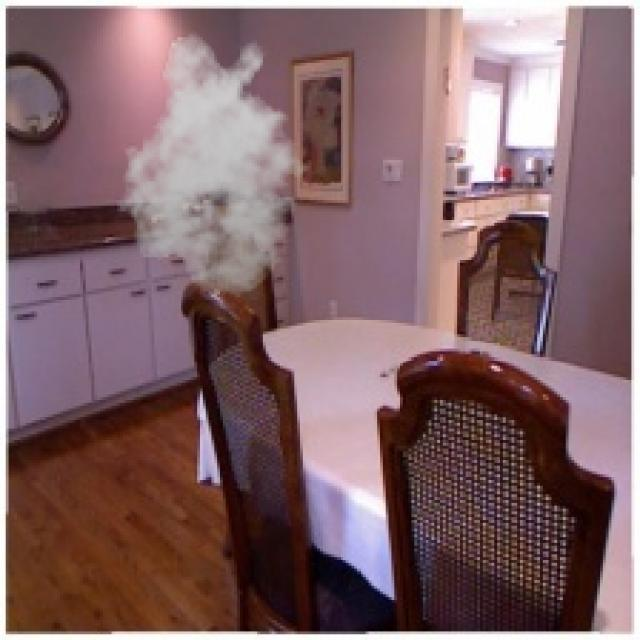Smoke: (111, 31, 320, 298)
